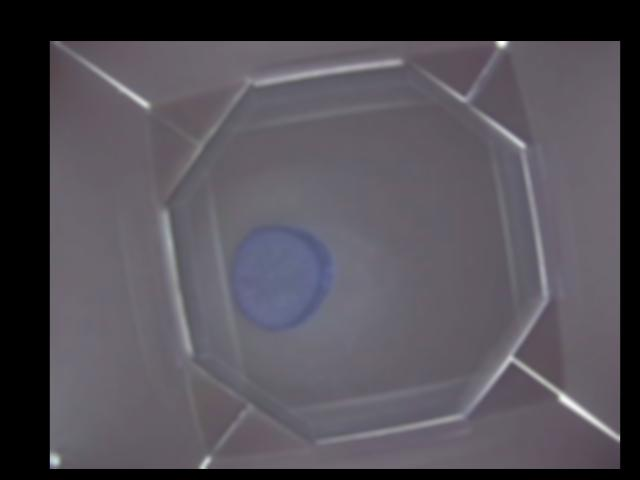Mooli: (229, 227, 334, 328)
